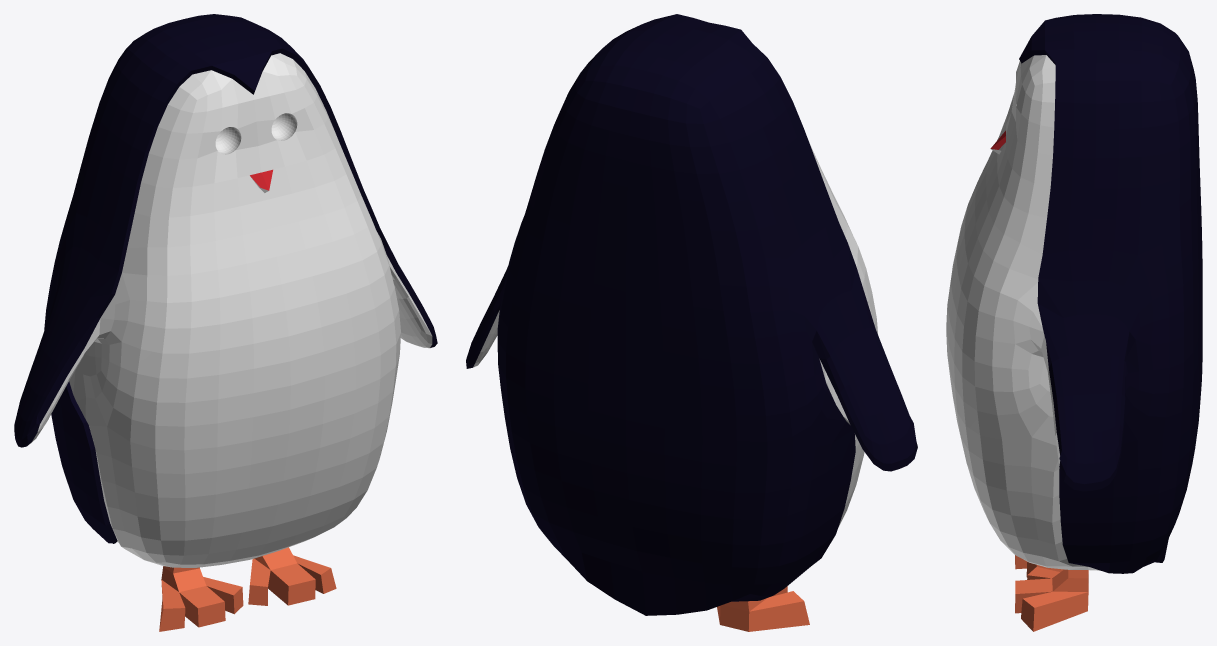
3 renders of one model, left to right at view 1: azimuth 30°, elevation 25°; view 2: azimuth 150°, elevation 25°; view 3: azimuth 270°, elevation 25°, orthographic. The views are drawn at different scales.
Parts seen in each view (by area): view 1: penguin; view 2: penguin; view 3: penguin.
Boxes of the visible parts, x1=… form: penguin: x1=14, y1=14, x2=437, y2=631; penguin: x1=466, y1=14, x2=917, y2=631; penguin: x1=946, y1=14, x2=1202, y2=631.
Size of the model in its own units: 3.03 by 3.87 by 1.61.
